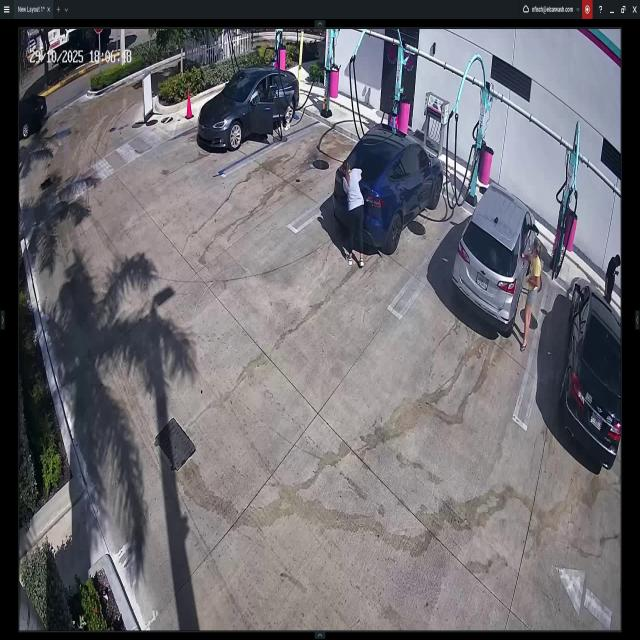Car: (336, 128, 444, 250), (557, 282, 622, 467), (456, 192, 534, 327), (193, 66, 299, 147), (19, 98, 51, 142)
